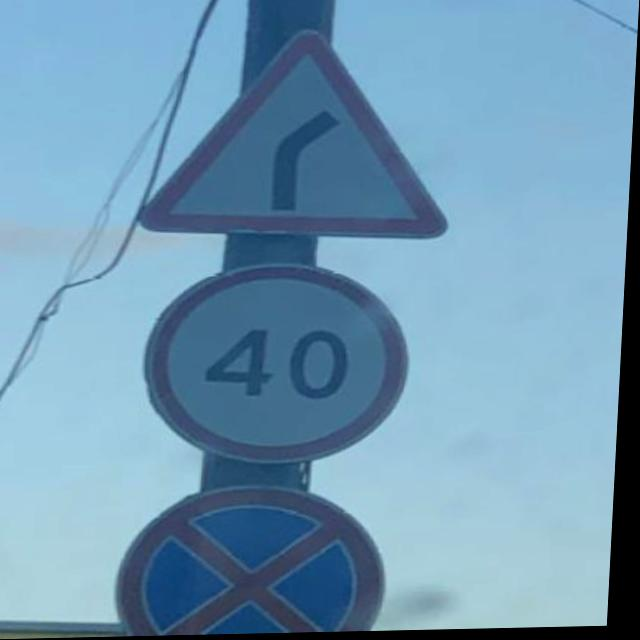limit40: (135, 253, 423, 471)
